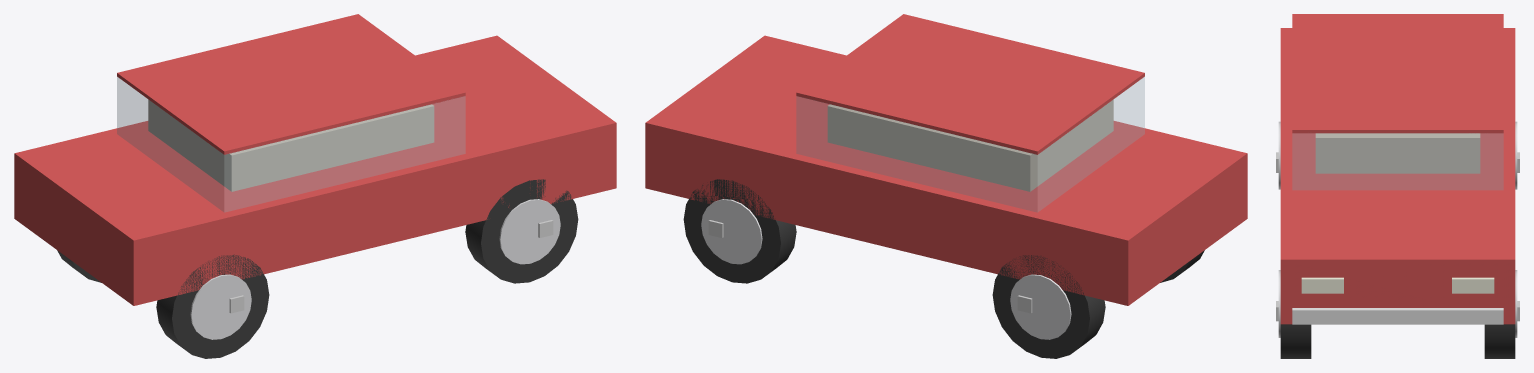
File: de_carModel_crest.glb
3 renders of one model, left to right at view 1: azimuth 30°, elevation 25°; view 2: azimuth 150°, elevation 25°; view 3: azimuth 270°, elevation 25°, orthographic.
Visible parts, largest first — view 1: PlaceholderCar; view 2: PlaceholderCar; view 3: PlaceholderCar.
Part boxes in pixels (x1=…): PlaceholderCar: x1=14, y1=14, x2=616, y2=358; PlaceholderCar: x1=645, y1=14, x2=1247, y2=358; PlaceholderCar: x1=1276, y1=14, x2=1519, y2=358.
Bounding box in the file's own units: 4.34 × 1.7 × 1.91.
